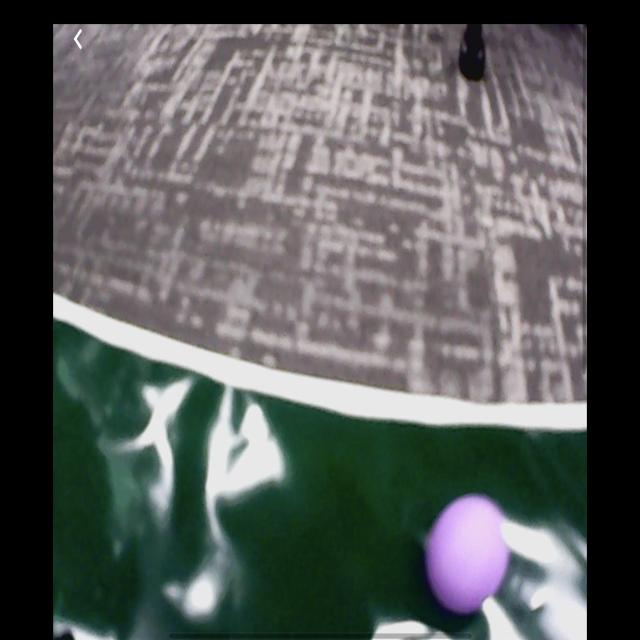ball: (426, 492, 506, 611)
